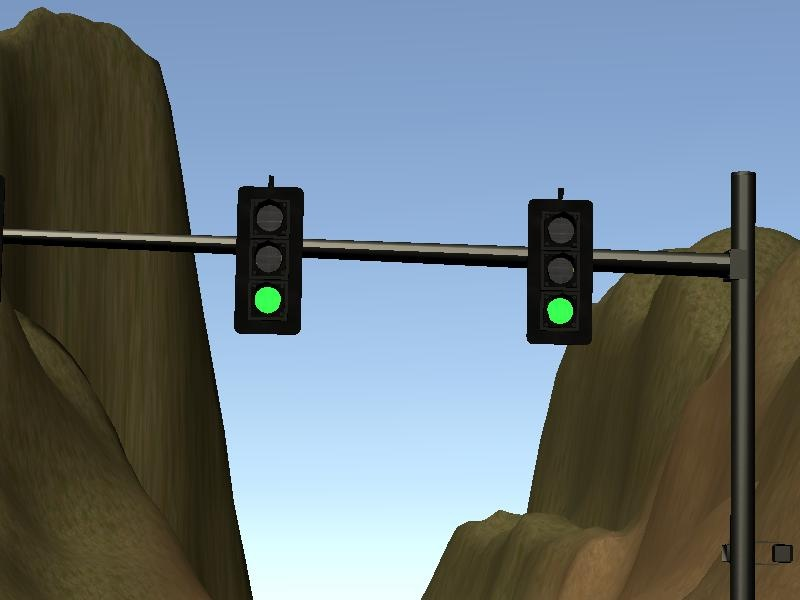traffic_light_green: (1, 173, 729, 349)
